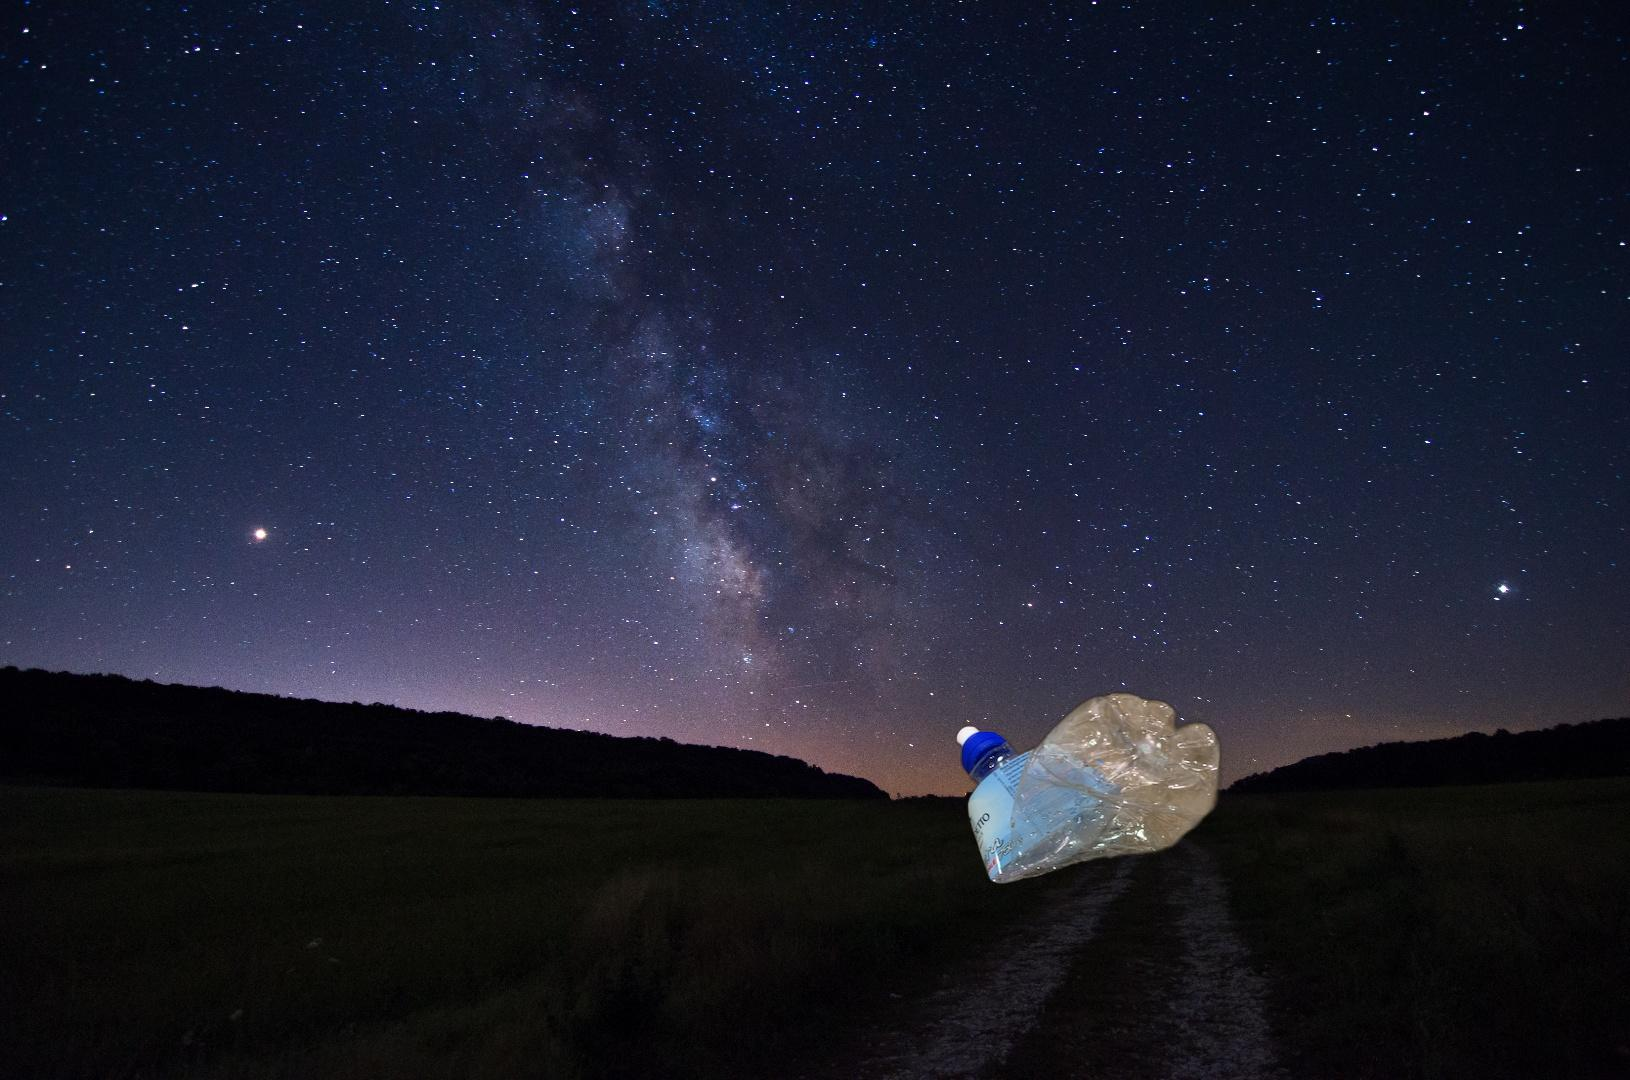plastic-bottles: (952, 688, 1226, 1026)
